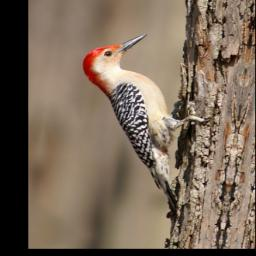Woodpecker: (58, 27, 224, 215)
